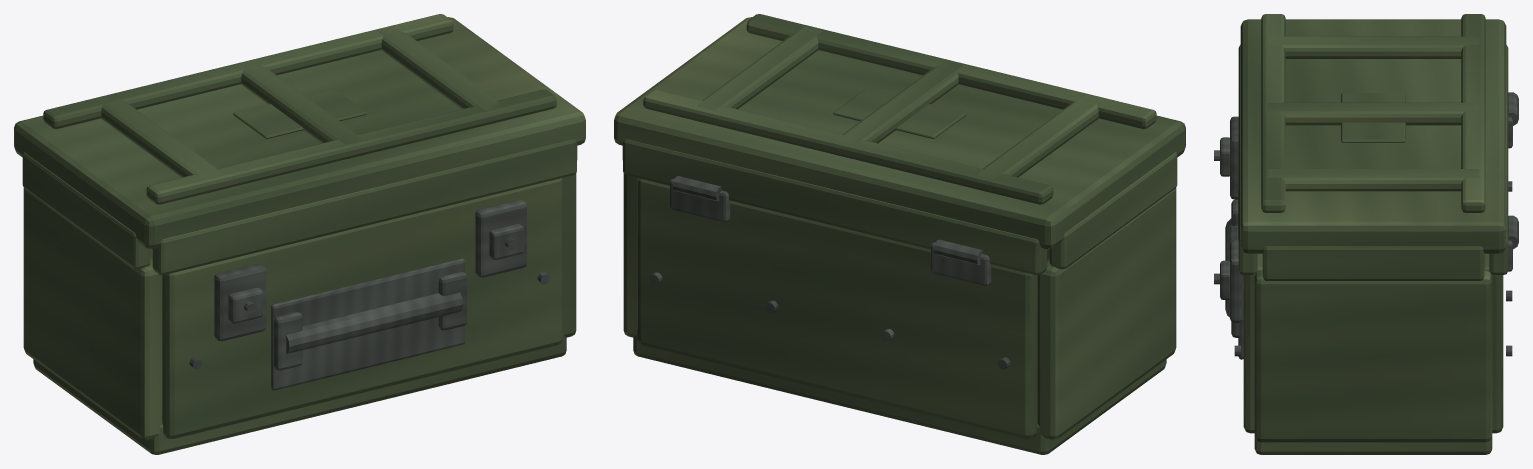
Rendered from field-case.glb.
The picture shows the model from 3 angles, left to right: view 1: azimuth 30°, elevation 25°; view 2: azimuth 150°, elevation 25°; view 3: azimuth 270°, elevation 25°; orthographic projection. The views are drawn at different scales.
Visible parts, largest first — view 1: FieldCasePaintMesh, FieldCaseMetalMesh; view 2: FieldCasePaintMesh, FieldCaseMetalMesh; view 3: FieldCasePaintMesh, FieldCaseMetalMesh.
Part boxes in pixels (bbox=[...]): FieldCasePaintMesh: bbox=[14, 14, 585, 454]; FieldCaseMetalMesh: bbox=[189, 200, 550, 390]; FieldCasePaintMesh: bbox=[614, 14, 1185, 454]; FieldCaseMetalMesh: bbox=[649, 176, 1010, 369]; FieldCasePaintMesh: bbox=[1238, 14, 1508, 454]; FieldCaseMetalMesh: bbox=[1214, 92, 1518, 359].
Size of the model in its own units: 0.919 by 0.515 by 0.564.
3 materials, 2 textured.
